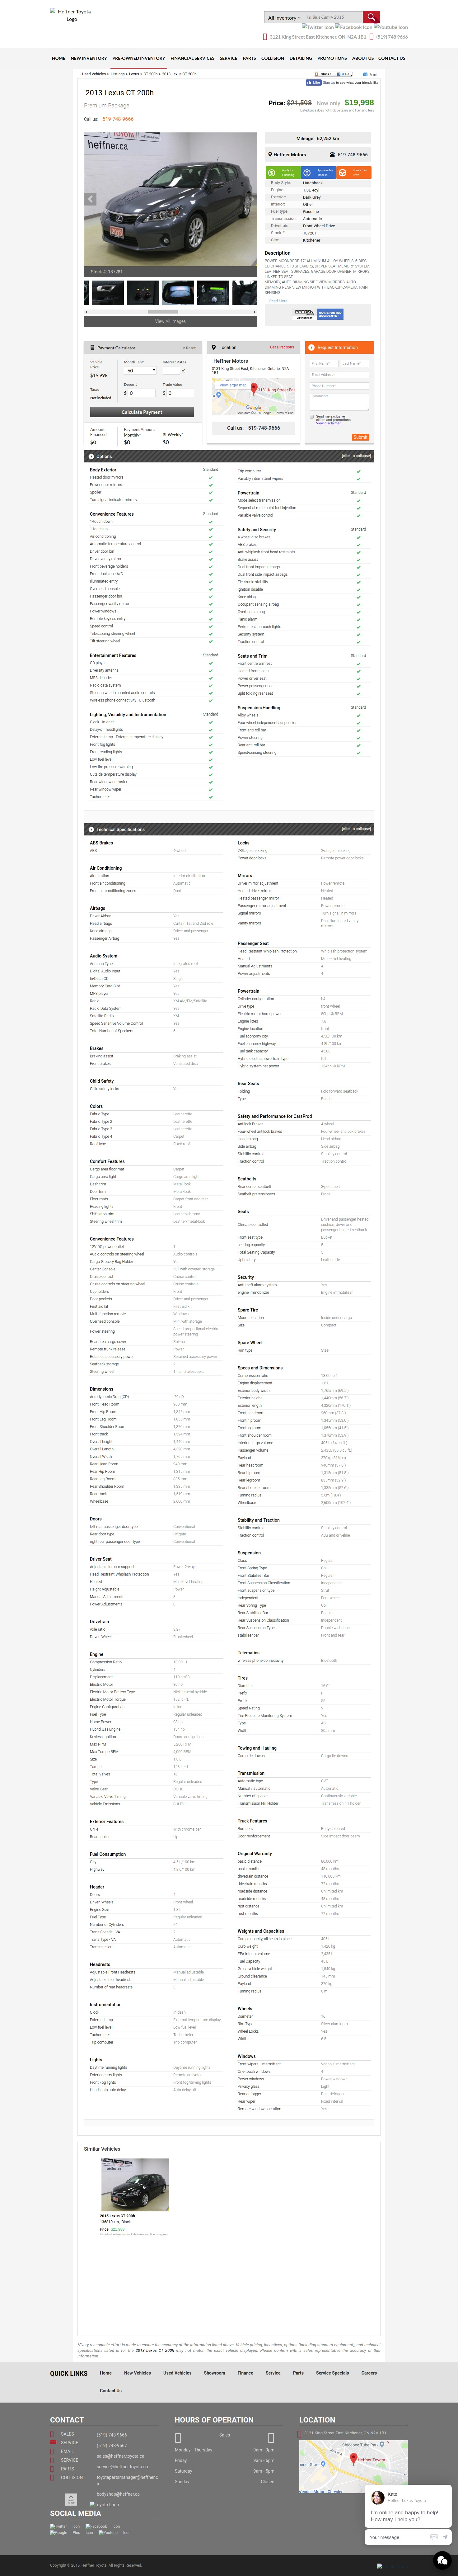car: (250, 196, 254, 204)
